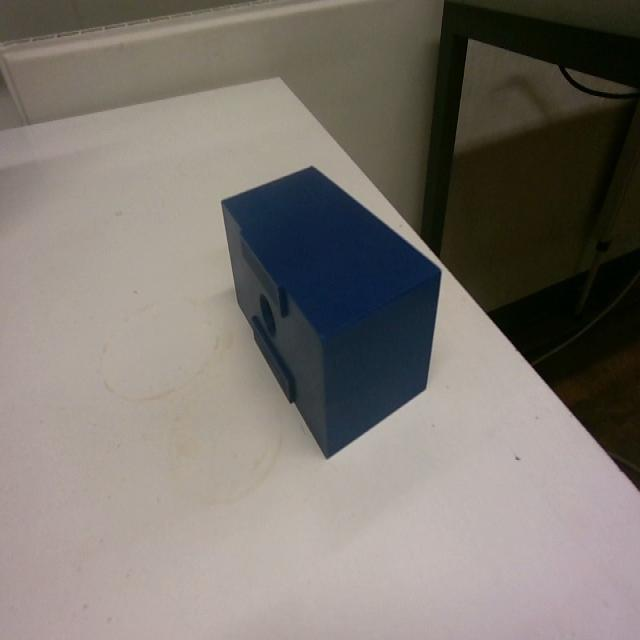Blue Cuboid: (218, 160, 443, 459)
